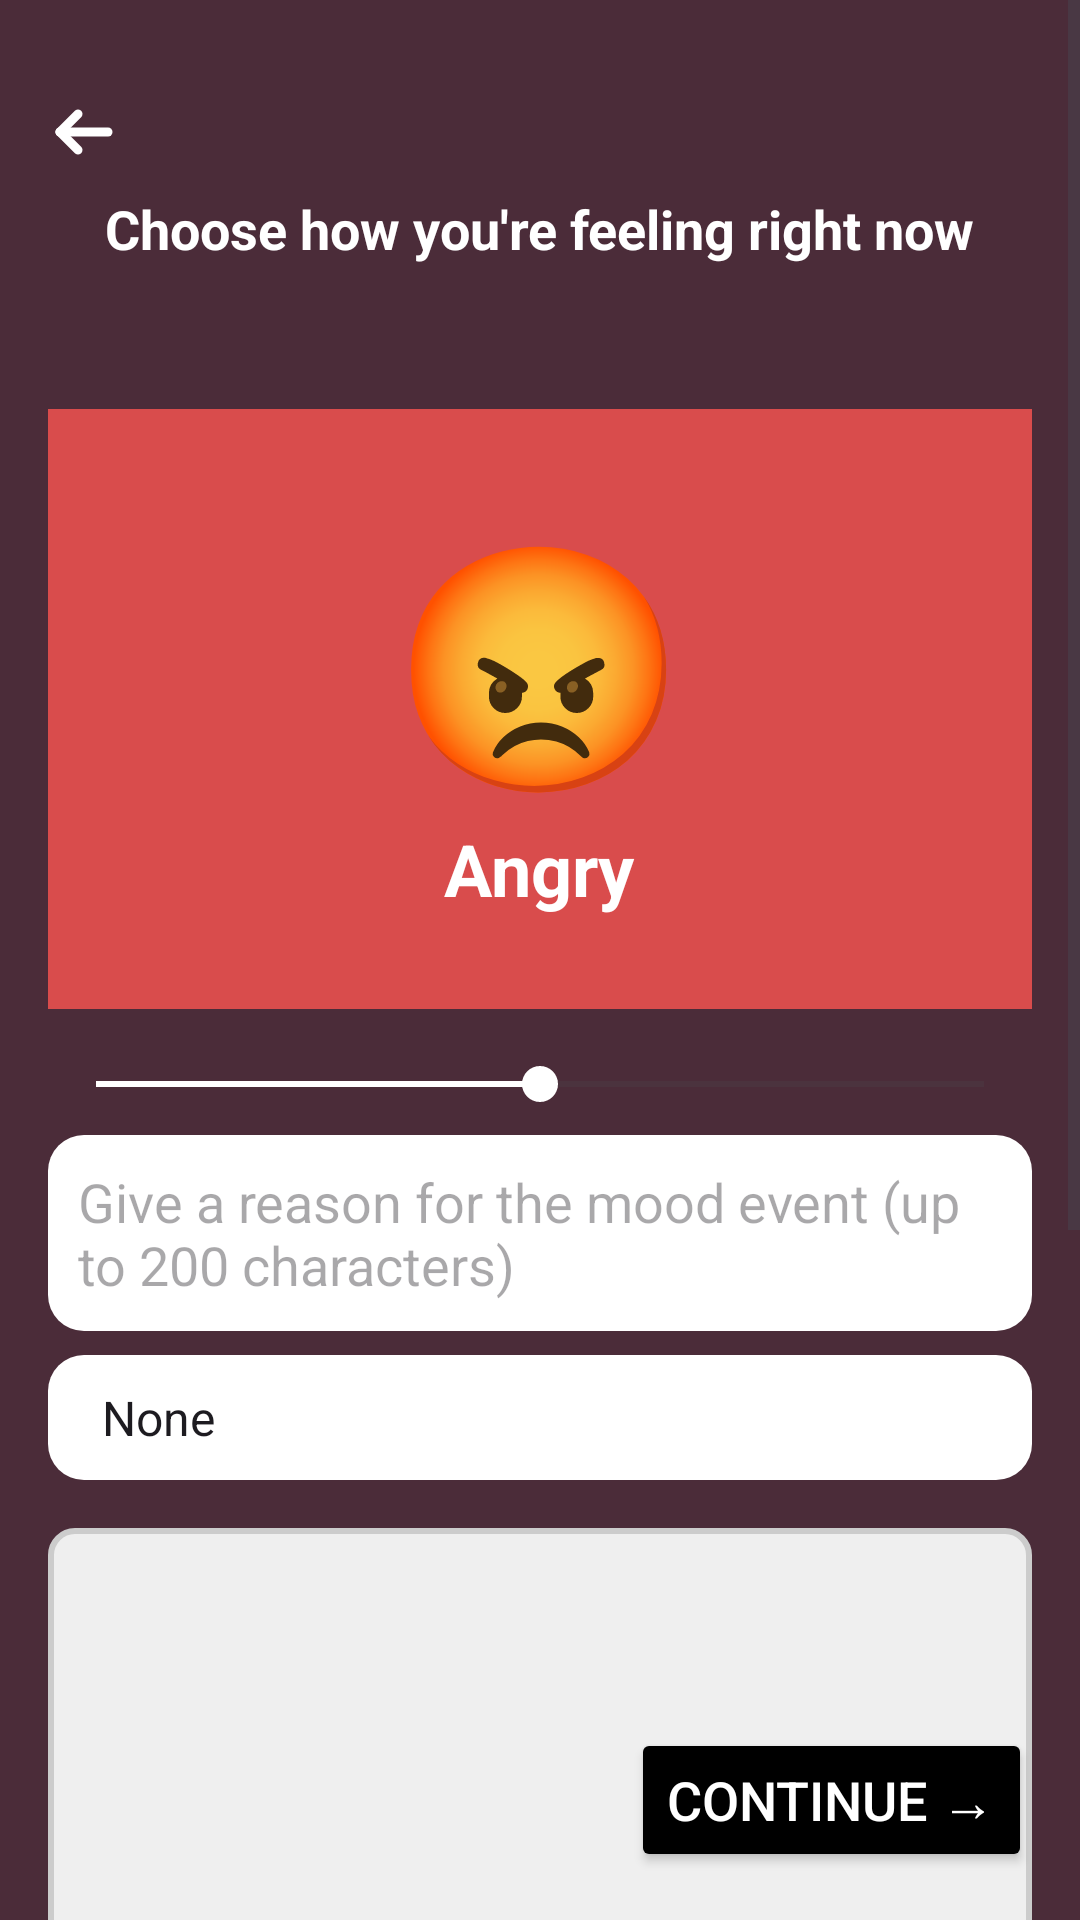

Icon click points for this 1080w x 1920h phone screenshot, format point (x, y):
Back: point (84, 132)
